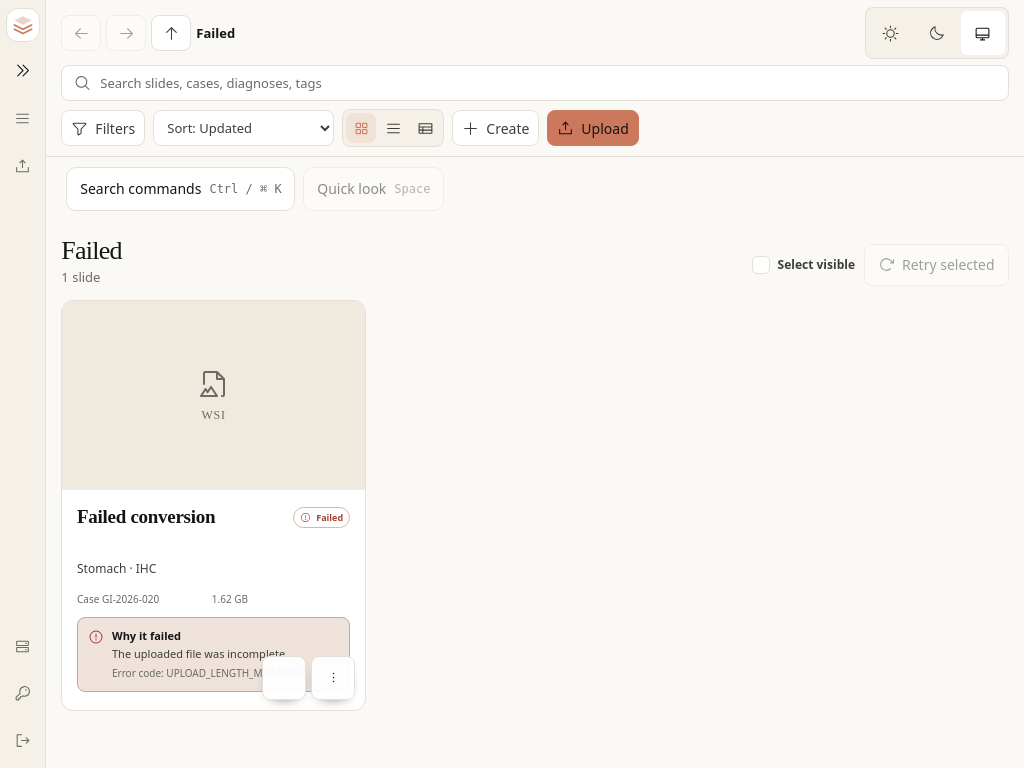
Test: Canvas Focus library explorer › explains failed files and retries the selected originals without re-uploading
This screenshot has width=1024, height=768.
Expected: the text "The uploaded file was incomplete." is shown, 112,646 -> 288,661
Expected: the text "Error code: UPLOAD_LENGTH_MISMATCH" is shown, 112,666 -> 306,680
Click the checkbox named "select failed conversion".
click(284, 678)  # box 262,656 -> 306,700
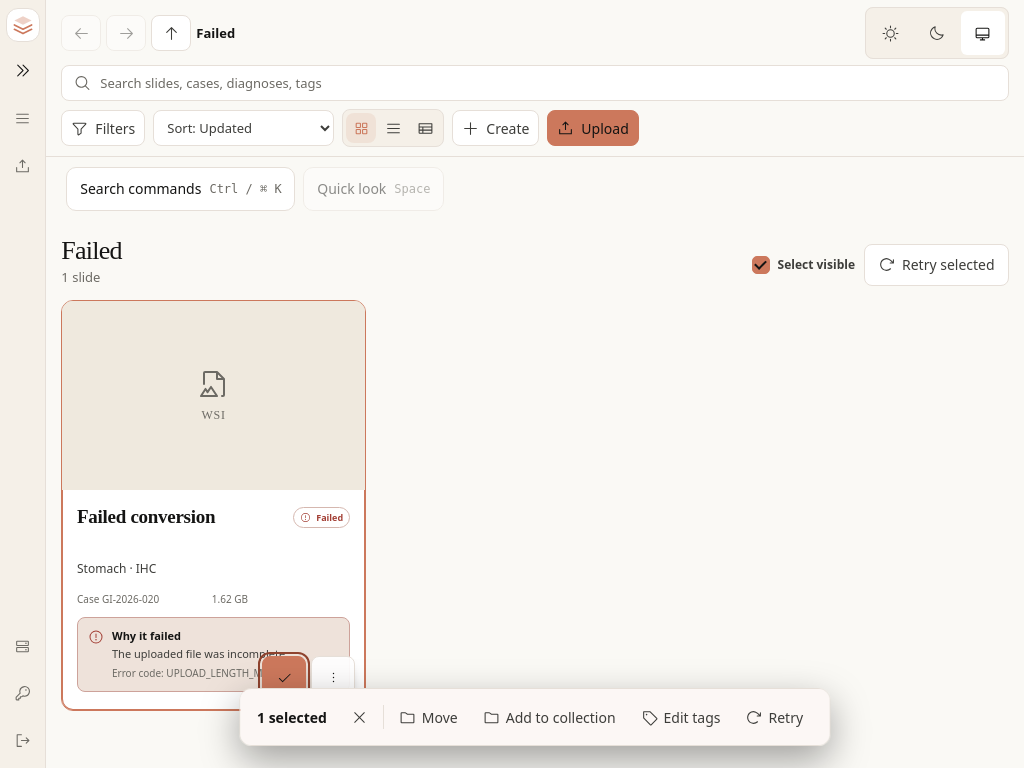
Now the button "Retry selected" is enabled
Click the button "Retry selected".
click(936, 265)  # box 864,244 -> 1009,286
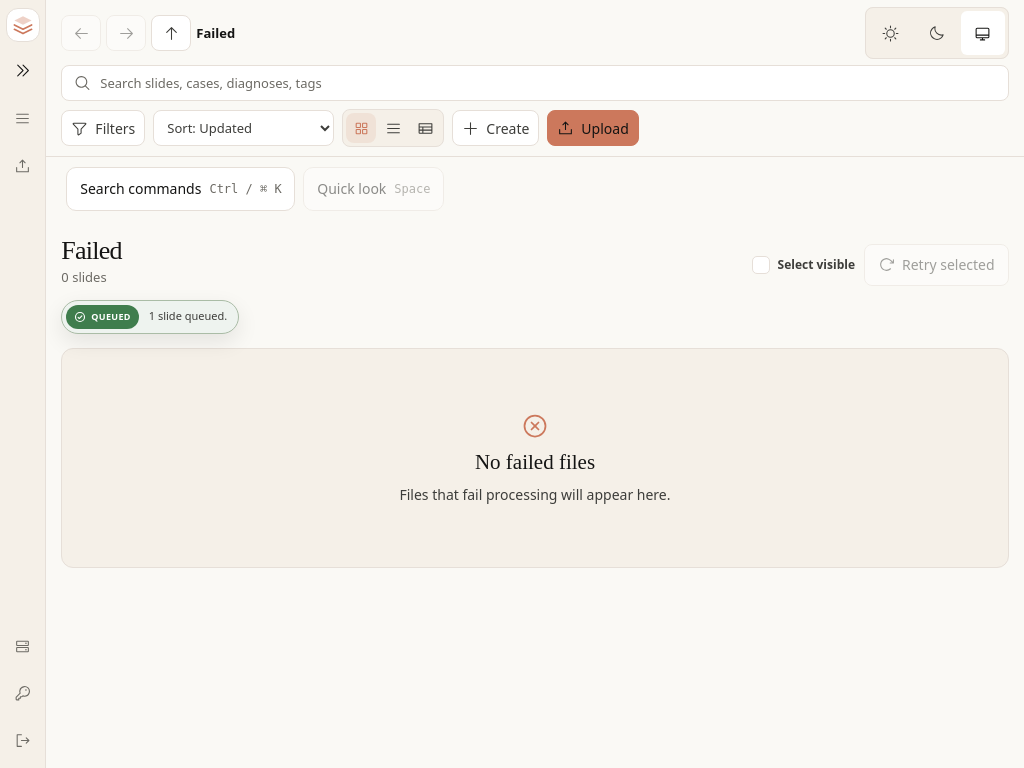
Now the heading "No failed files" is shown, box 475,450 -> 595,475
Now the text "1 slide queued." is shown, box 149,309 -> 227,324
